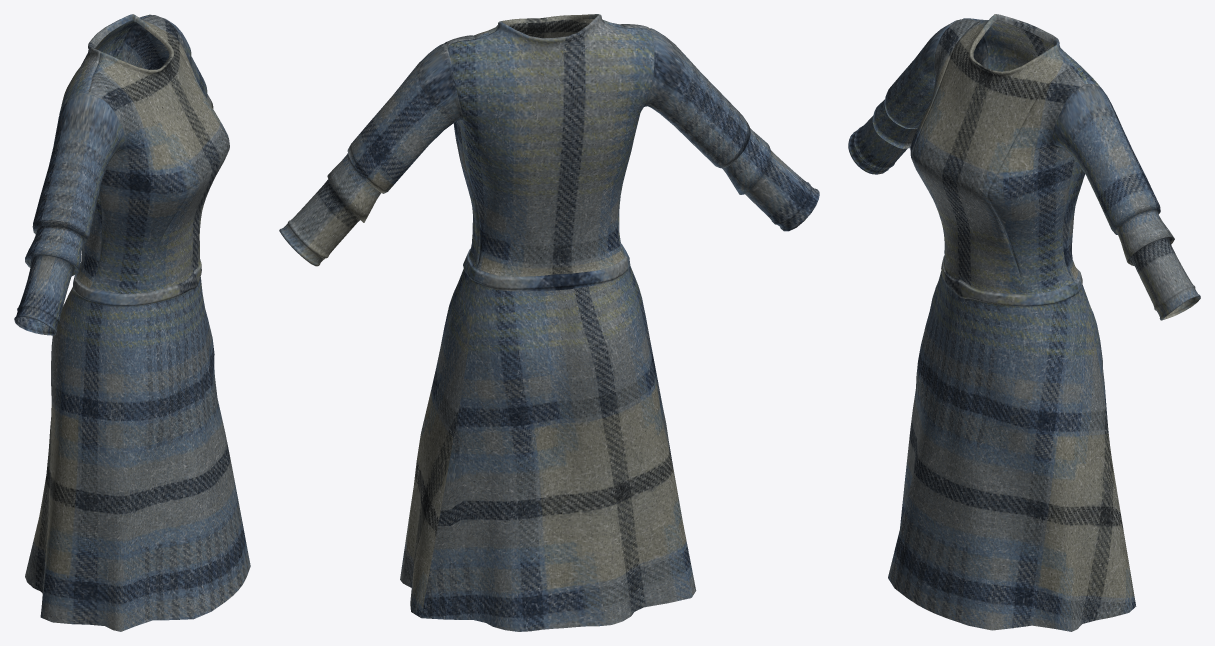
Rendered from dress_test.dae.
The picture shows the model from 3 angles, left to right: view 1: azimuth 30°, elevation 25°; view 2: azimuth 150°, elevation 25°; view 3: azimuth 270°, elevation 25°; orthographic projection. The views are drawn at different scales.
Parts seen in each view (by area): view 1: dress_test; view 2: dress_test; view 3: dress_test.
Part boxes in pixels (box(x1,y1,x2,y2)): dress_test: box(14, 14, 250, 631); dress_test: box(279, 14, 819, 631); dress_test: box(848, 14, 1200, 631).
Bounding box in the file's own units: 834 × 1220 × 715.
